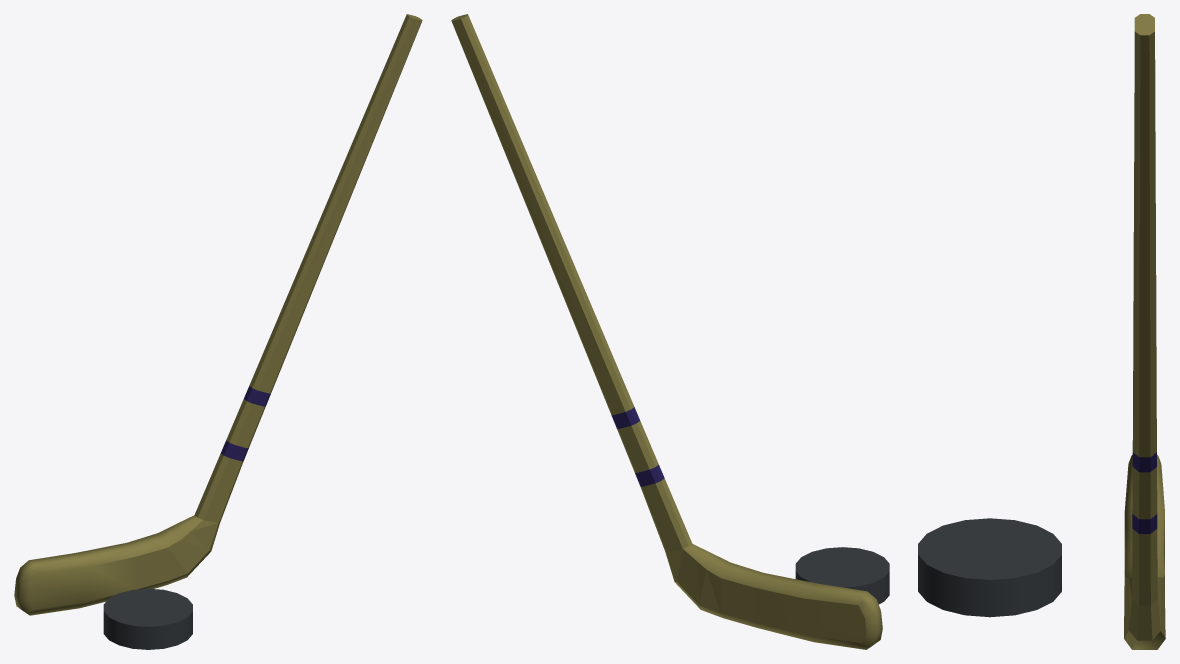
File: Hockey EXP.fbx
3 views of the same model, side by side, from view 1: azimuth 30°, elevation 25°; view 2: azimuth 150°, elevation 25°; view 3: azimuth 270°, elevation 25° (orthographic). The views are drawn at different scales.
Visible parts, largest first — view 1: Box001, Cylinder001; view 2: Box001, Cylinder001; view 3: Box001, Cylinder001.
Boxes of the visible parts, x1,y1,x2,y2 form: Box001: (14,14,422,615); Cylinder001: (103,588,192,649); Box001: (451,14,882,649); Cylinder001: (795,547,889,604); Box001: (1124,14,1165,649); Cylinder001: (918,518,1061,617).
Size of the model in its own units: 364 by 438 by 120.
